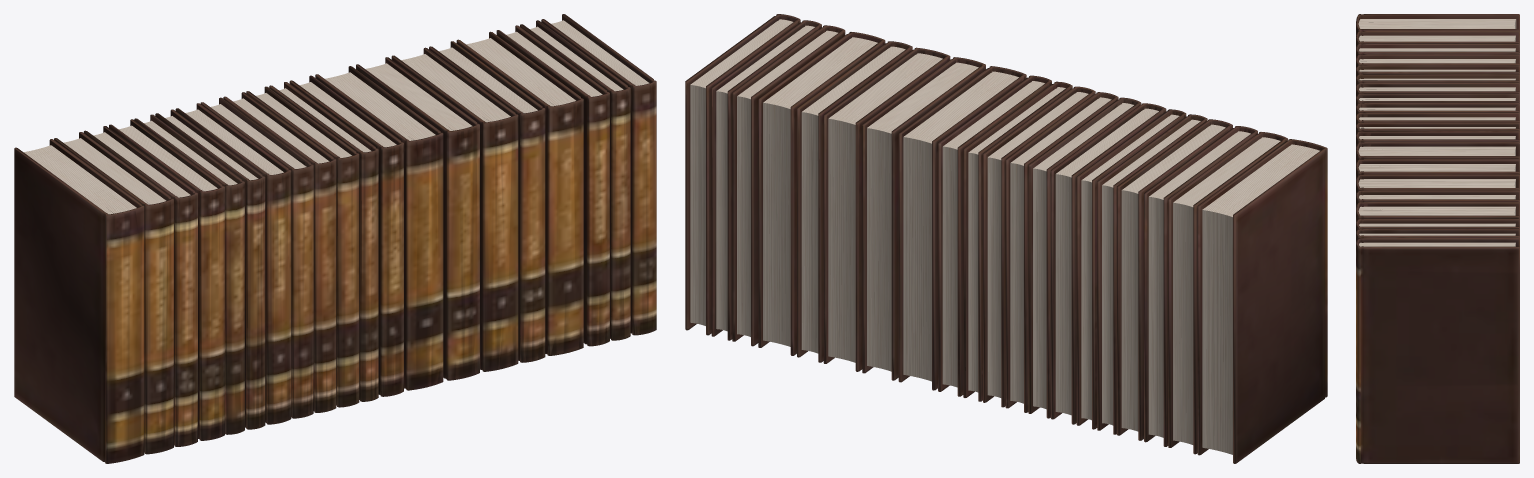
The model's file is book_encyclopedia_set_01.glb.
3 renders of one model, left to right at view 1: azimuth 30°, elevation 25°; view 2: azimuth 150°, elevation 25°; view 3: azimuth 270°, elevation 25°, orthographic. The views are drawn at different scales.
Parts seen in each view (by area): view 1: book_encyclopedia_set_01_book01; view 2: book_encyclopedia_set_01_book01; view 3: book_encyclopedia_set_01_book01.
Part boxes in pixels (x1=…): book_encyclopedia_set_01_book01: x1=14, y1=14, x2=656, y2=463; book_encyclopedia_set_01_book01: x1=685, y1=14, x2=1327, y2=463; book_encyclopedia_set_01_book01: x1=1356, y1=14, x2=1519, y2=463.
Size of the model in its own units: 0.5513 by 0.2374 by 0.1631.
Materials: 2 (2 with a texture image).
